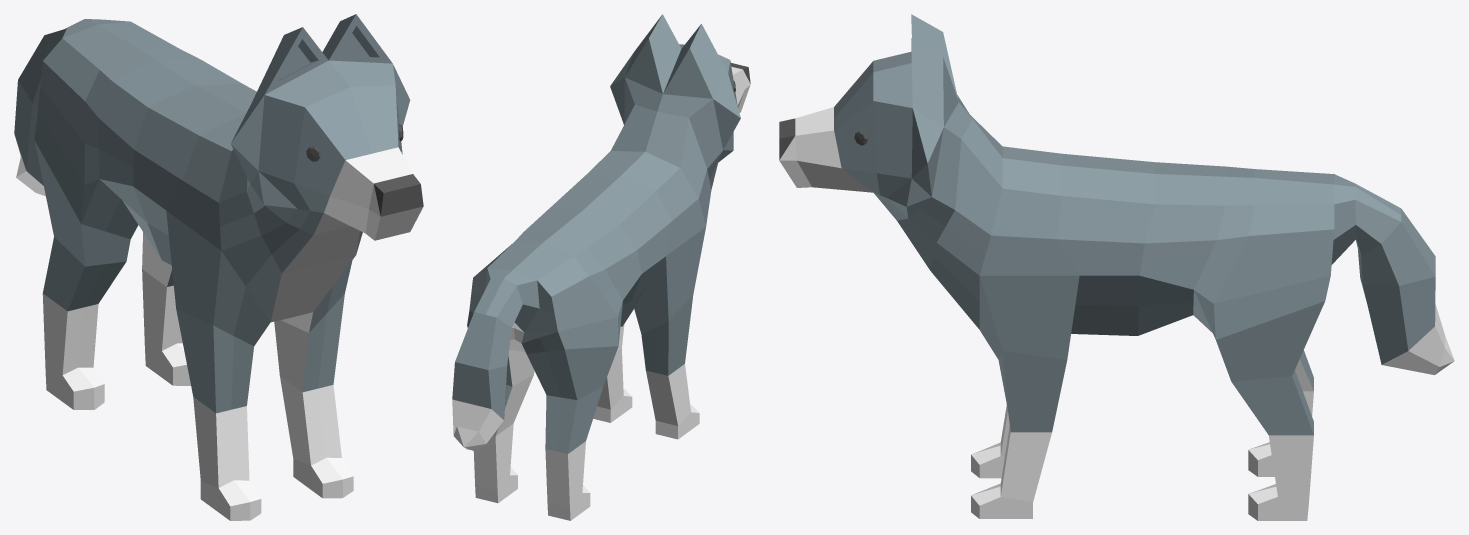
Rendered from wolf.glb.
3 views of the same model, side by side, from view 1: azimuth 30°, elevation 25°; view 2: azimuth 150°, elevation 25°; view 3: azimuth 270°, elevation 25° (orthographic). The views are drawn at different scales.
Visible parts, largest first — view 1: Wolf_01_Cube049; view 2: Wolf_01_Cube049; view 3: Wolf_01_Cube049.
Part boxes in pixels (<box>): Wolf_01_Cube049: <box>14,14,423,520</box>; Wolf_01_Cube049: <box>452,14,750,520</box>; Wolf_01_Cube049: <box>779,14,1454,520</box>.
Size of the model in its own units: 3.8 by 10.37 by 13.61.
